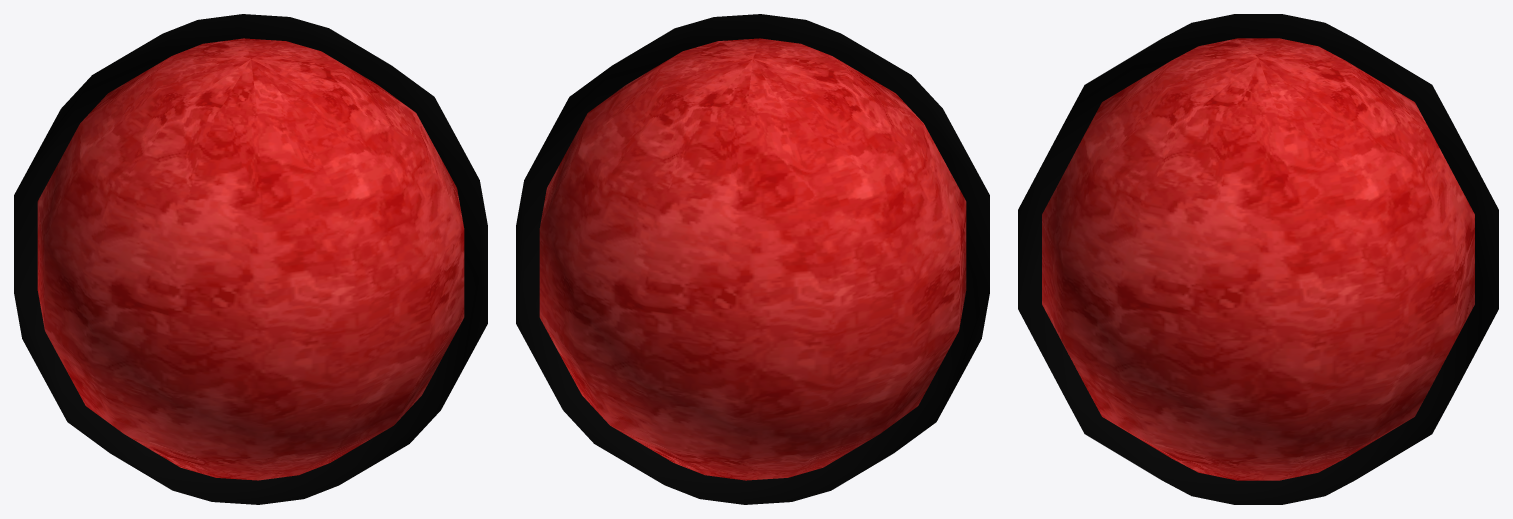
File: OPENINGCRYSTAL_CRYSTALPED_PU.fbx
3 views of the same model, side by side, from view 1: azimuth 30°, elevation 25°; view 2: azimuth 150°, elevation 25°; view 3: azimuth 270°, elevation 25° (orthographic).
Parts seen in each view (by area): view 1: OPENINGCRYSTAL_CRYSTALPED_PU; view 2: OPENINGCRYSTAL_CRYSTALPED_PU; view 3: OPENINGCRYSTAL_CRYSTALPED_PU.
Boxes of the visible parts, bbox=[...] form: OPENINGCRYSTAL_CRYSTALPED_PU: bbox=[14, 14, 487, 504]; OPENINGCRYSTAL_CRYSTALPED_PU: bbox=[516, 14, 989, 504]; OPENINGCRYSTAL_CRYSTALPED_PU: bbox=[1018, 14, 1498, 504].
Bounding box in the file's own units: 2552 × 2684 × 2617.
Materials: 2 (2 with a texture image).
